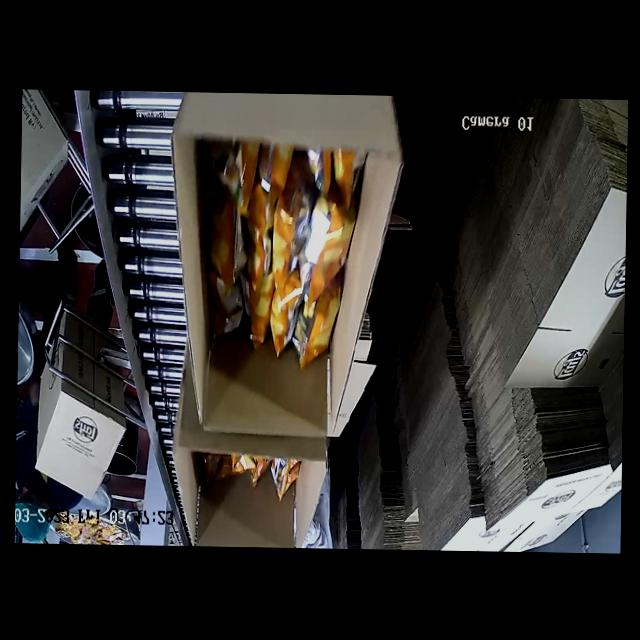cheese: (209, 149, 363, 369), (174, 449, 304, 504)
